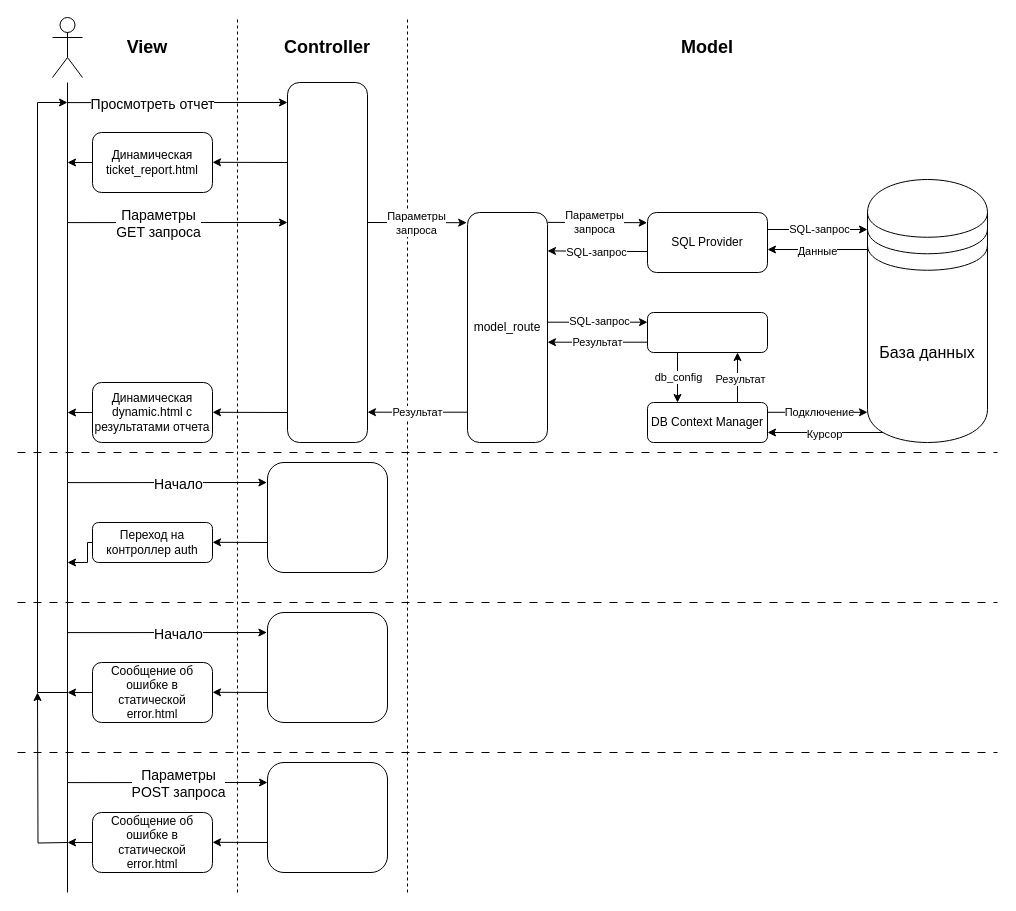
Image size: 1016x911. Some labels were removed from this diagram. The shapes that lost their labels are listed below. From the top down, each one's centre as x and y in pixels, then its label:
At point 327,262: "route".
At point 707,332: "select_typed".
At point 327,517: "Пользователь не авторизован".
At point 327,667: "У пользователя недостаточно прав".
At point 327,817: "Данные отсутствуют".
